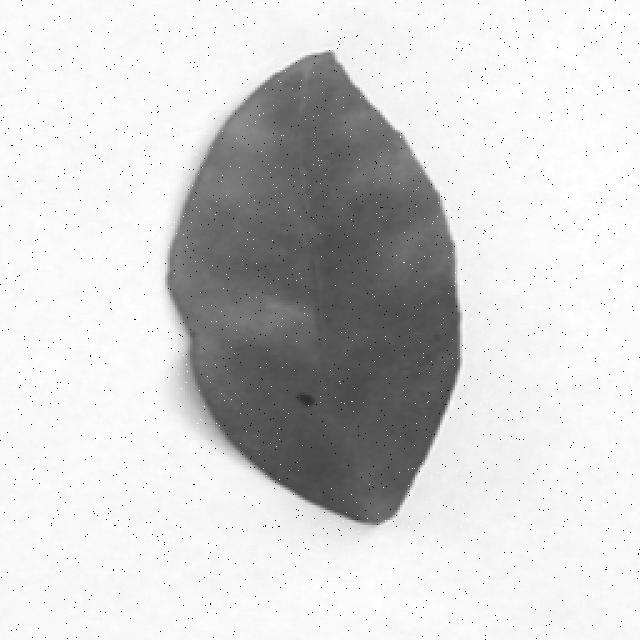greening: (156, 45, 483, 536)
